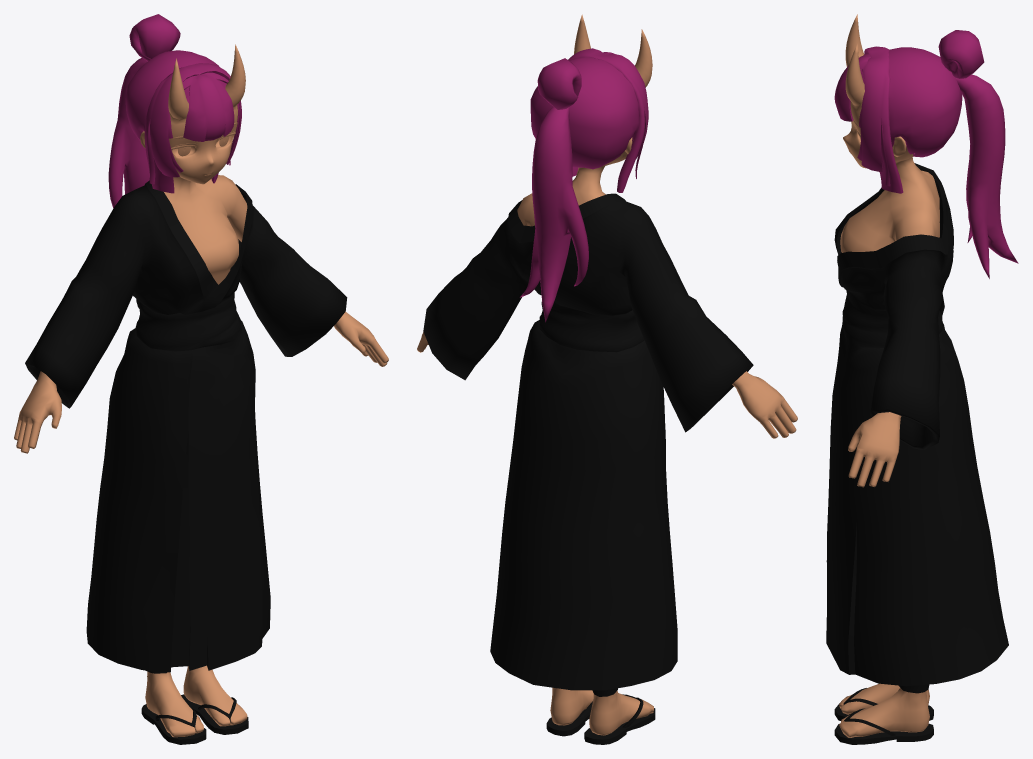
File: cha2.fbx
The picture shows the model from 3 angles, left to right: view 1: azimuth 30°, elevation 25°; view 2: azimuth 150°, elevation 25°; view 3: azimuth 270°, elevation 25°; orthographic projection. The views are drawn at different scales.
Parts seen in each view (by area): view 1: clothes, hair, body, face, shoes; view 2: clothes, hair, body, shoes, face; view 3: clothes, hair, body, face, shoes.
Boxes of the visible parts, x1,y1,x2,y2 form: clothes: (25, 180, 347, 672); hair: (108, 14, 241, 207); body: (14, 175, 388, 737); face: (140, 44, 245, 184); shoes: (141, 670, 248, 744); clothes: (423, 193, 753, 690); hair: (520, 48, 648, 322); body: (417, 151, 797, 735); shoes: (546, 688, 655, 744); face: (574, 14, 652, 162); clothes: (826, 163, 1008, 686); hair: (834, 30, 1018, 278); body: (839, 136, 939, 737); face: (843, 14, 906, 168); shoes: (834, 684, 933, 744).
Size of the model in its own units: 101 by 45.08 by 180.
